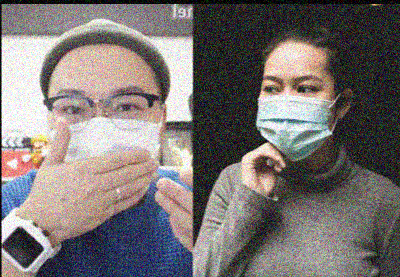with_mask: (44, 85, 162, 179), (255, 74, 334, 165)
